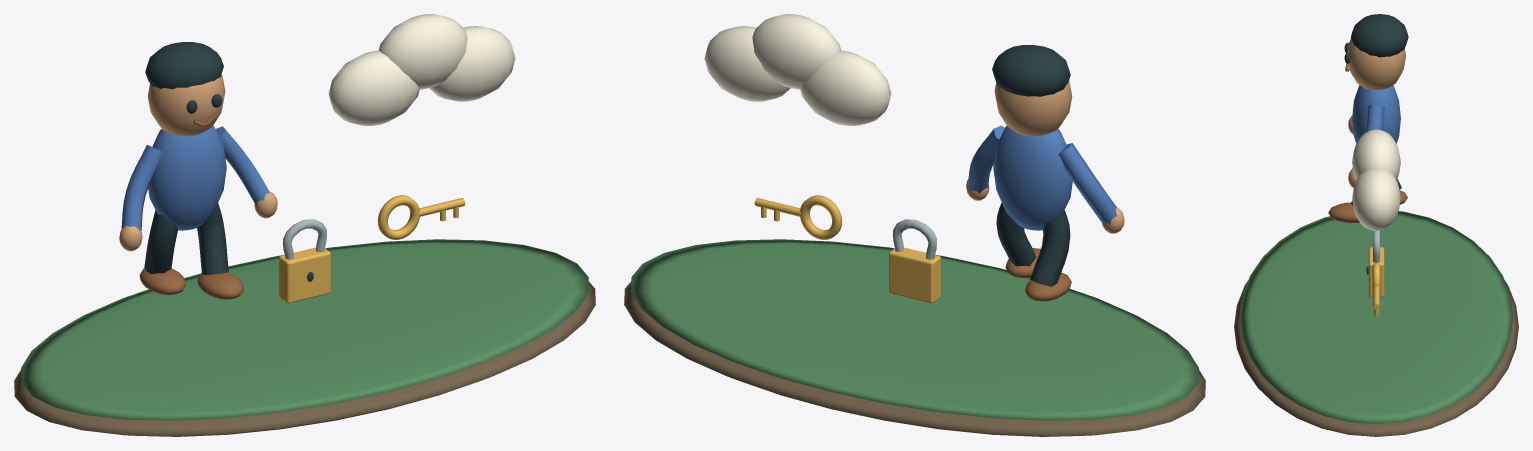
Rendered from complete-first-learned-cloud-skill.glb.
The picture shows the model from 3 angles, left to right: view 1: azimuth 30°, elevation 25°; view 2: azimuth 150°, elevation 25°; view 3: azimuth 270°, elevation 25°; orthographic projection. The views are drawn at different scales.
Visible parts, largest first — view 1: complete-first-learned-cloud-skill_surface_01, complete-first-learned-cloud-skill_surface_06, complete-first-learned-cloud-skill_surface_00, complete-first-learned-cloud-skill_surface_05, complete-first-learned-cloud-skill_surface_03, complete-first-learned-cloud-skill_surface_07, complete-first-learned-cloud-skill_surface_02, complete-first-learned-cloud-skill_surface_04, complete-first-learned-cloud-skill_surface_08; view 2: complete-first-learned-cloud-skill_surface_01, complete-first-learned-cloud-skill_surface_06, complete-first-learned-cloud-skill_surface_00, complete-first-learned-cloud-skill_surface_05, complete-first-learned-cloud-skill_surface_03, complete-first-learned-cloud-skill_surface_07, complete-first-learned-cloud-skill_surface_02, complete-first-learned-cloud-skill_surface_04, complete-first-learned-cloud-skill_surface_08; view 3: complete-first-learned-cloud-skill_surface_01, complete-first-learned-cloud-skill_surface_00, complete-first-learned-cloud-skill_surface_06, complete-first-learned-cloud-skill_surface_05, complete-first-learned-cloud-skill_surface_03, complete-first-learned-cloud-skill_surface_02, complete-first-learned-cloud-skill_surface_07, complete-first-learned-cloud-skill_surface_04.
Boxes of the visible parts, left/top/right/bottom form: complete-first-learned-cloud-skill_surface_01: left=21, top=239, right=588, bottom=420; complete-first-learned-cloud-skill_surface_06: left=328, top=14, right=515, bottom=125; complete-first-learned-cloud-skill_surface_00: left=14, top=281, right=595, bottom=436; complete-first-learned-cloud-skill_surface_05: left=121, top=125, right=269, bottom=231; complete-first-learned-cloud-skill_surface_03: left=144, top=42, right=313, bottom=281; complete-first-learned-cloud-skill_surface_07: left=279, top=195, right=465, bottom=303; complete-first-learned-cloud-skill_surface_02: left=119, top=74, right=277, bottom=251; complete-first-learned-cloud-skill_surface_04: left=139, top=116, right=243, bottom=299; complete-first-learned-cloud-skill_surface_08: left=283, top=219, right=326, bottom=259; complete-first-learned-cloud-skill_surface_01: left=631, top=239, right=1198, bottom=420; complete-first-learned-cloud-skill_surface_06: left=704, top=14, right=891, bottom=125; complete-first-learned-cloud-skill_surface_00: left=624, top=281, right=1205, bottom=436; complete-first-learned-cloud-skill_surface_05: left=968, top=125, right=1117, bottom=230; complete-first-learned-cloud-skill_surface_03: left=992, top=45, right=1070, bottom=286; complete-first-learned-cloud-skill_surface_07: left=754, top=195, right=940, bottom=303; complete-first-learned-cloud-skill_surface_02: left=966, top=80, right=1124, bottom=233; complete-first-learned-cloud-skill_surface_04: left=1005, top=248, right=1071, bottom=301; complete-first-learned-cloud-skill_surface_08: left=893, top=219, right=936, bottom=259; complete-first-learned-cloud-skill_surface_01: left=1239, top=211, right=1513, bottom=424; complete-first-learned-cloud-skill_surface_00: left=1234, top=281, right=1518, bottom=436; complete-first-learned-cloud-skill_surface_06: left=1352, top=129, right=1400, bottom=230; complete-first-learned-cloud-skill_surface_05: left=1351, top=85, right=1400, bottom=168; complete-first-learned-cloud-skill_surface_03: left=1344, top=14, right=1408, bottom=274; complete-first-learned-cloud-skill_surface_02: left=1347, top=38, right=1405, bottom=187; complete-first-learned-cloud-skill_surface_07: left=1368, top=247, right=1384, bottom=315; complete-first-learned-cloud-skill_surface_04: left=1328, top=63, right=1407, bottom=222.
Size of the model in its own units: 4.56 by 2.67 by 2.5.
